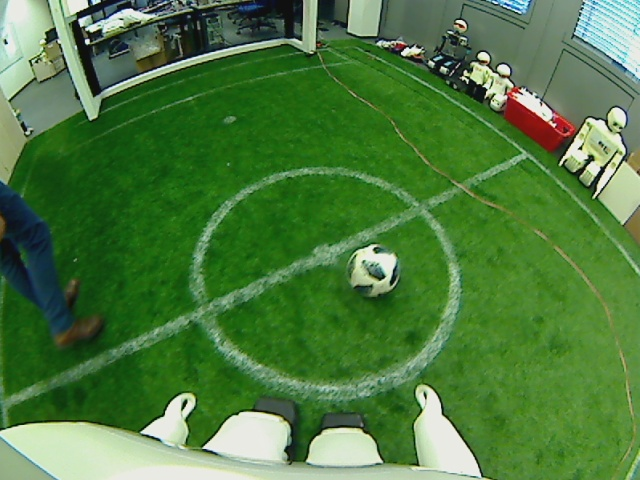ball: (347, 245, 401, 296)
